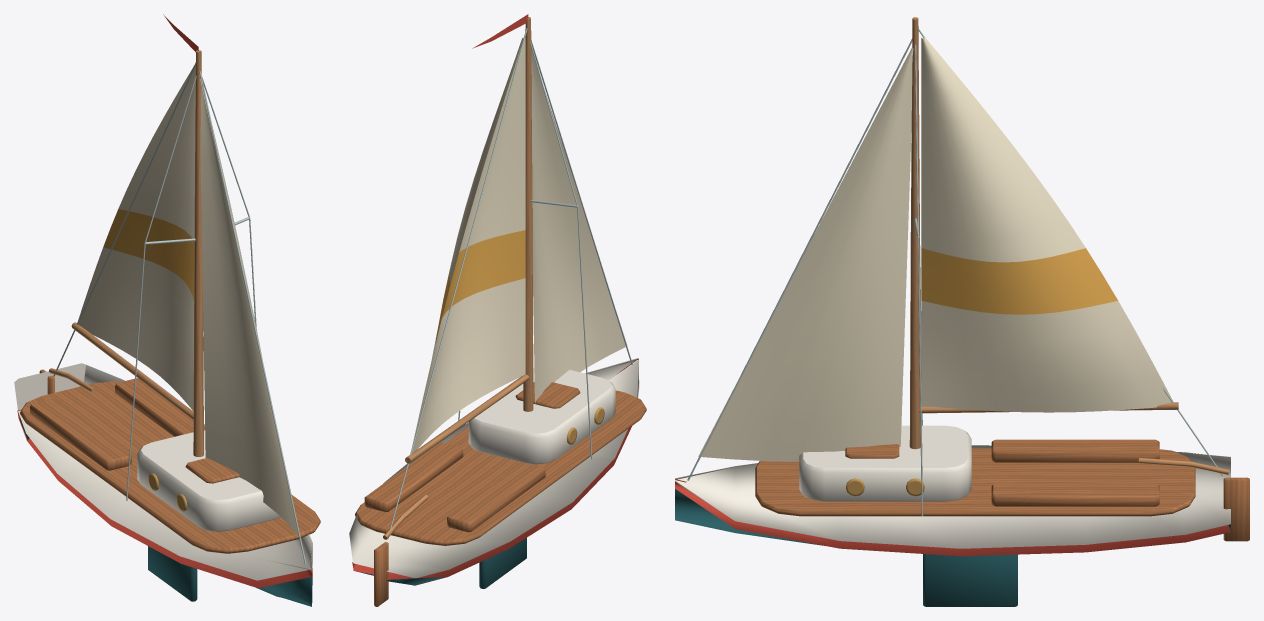
Rendered from sailboat.glb.
3 renders of one model, left to right at view 1: azimuth 30°, elevation 25°; view 2: azimuth 150°, elevation 25°; view 3: azimuth 270°, elevation 25°, orthographic. The views are drawn at different scales.
Parts seen in each view (by area): view 1: sailboat_Sail_Ivory, sailboat_Hull_White, sailboat_Teak, sailboat_Cedar, sailboat_Sail_Honey, sailboat_Silver, sailboat_Antifoul, sailboat_Coral; view 2: sailboat_Sail_Ivory, sailboat_Teak, sailboat_Hull_White, sailboat_Cedar, sailboat_Sail_Honey, sailboat_Silver, sailboat_Coral, sailboat_Antifoul; view 3: sailboat_Sail_Ivory, sailboat_Hull_White, sailboat_Teak, sailboat_Sail_Honey, sailboat_Antifoul, sailboat_Cedar, sailboat_Coral, sailboat_Silver.
Part boxes in pixels (<box>): sailboat_Sail_Ivory: <box>77,66,300,538</box>; sailboat_Hull_White: <box>14,363,312,580</box>; sailboat_Teak: <box>20,369,320,553</box>; sailboat_Cedar: <box>49,50,203,456</box>; sailboat_Sail_Honey: <box>103,209,194,301</box>; sailboat_Silver: <box>53,62,306,564</box>; sailboat_Antifoul: <box>19,418,312,606</box>; sailboat_Coral: <box>17,14,312,588</box>; sailboat_Sail_Ivory: <box>411,37,627,453</box>; sailboat_Teak: <box>355,382,646,606</box>; sailboat_Hull_White: <box>349,358,639,578</box>; sailboat_Cedar: <box>383,17,533,539</box>; sailboat_Sail_Honey: <box>435,230,525,342</box>; sailboat_Silver: <box>387,28,632,538</box>; sailboat_Coral: <box>352,14,638,585</box>; sailboat_Antifoul: <box>356,538,526,588</box>; sailboat_Sail_Ivory: <box>698,38,1173,461</box>; sailboat_Hull_White: <box>675,425,1230,548</box>; sailboat_Teak: <box>755,439,1249,541</box>; sailboat_Sail_Honey: <box>921,248,1117,314</box>; sailboat_Antifoul: <box>675,489,1230,606</box>; sailboat_Cedar: <box>909,17,1229,474</box>; sailboat_Coral: <box>675,479,1230,556</box>; sailboat_Silver: <box>687,28,1223,516</box>.
Size of the model in its own units: 1.84 by 6.52 by 5.74.
Materials: 10 (2 with a texture image).
